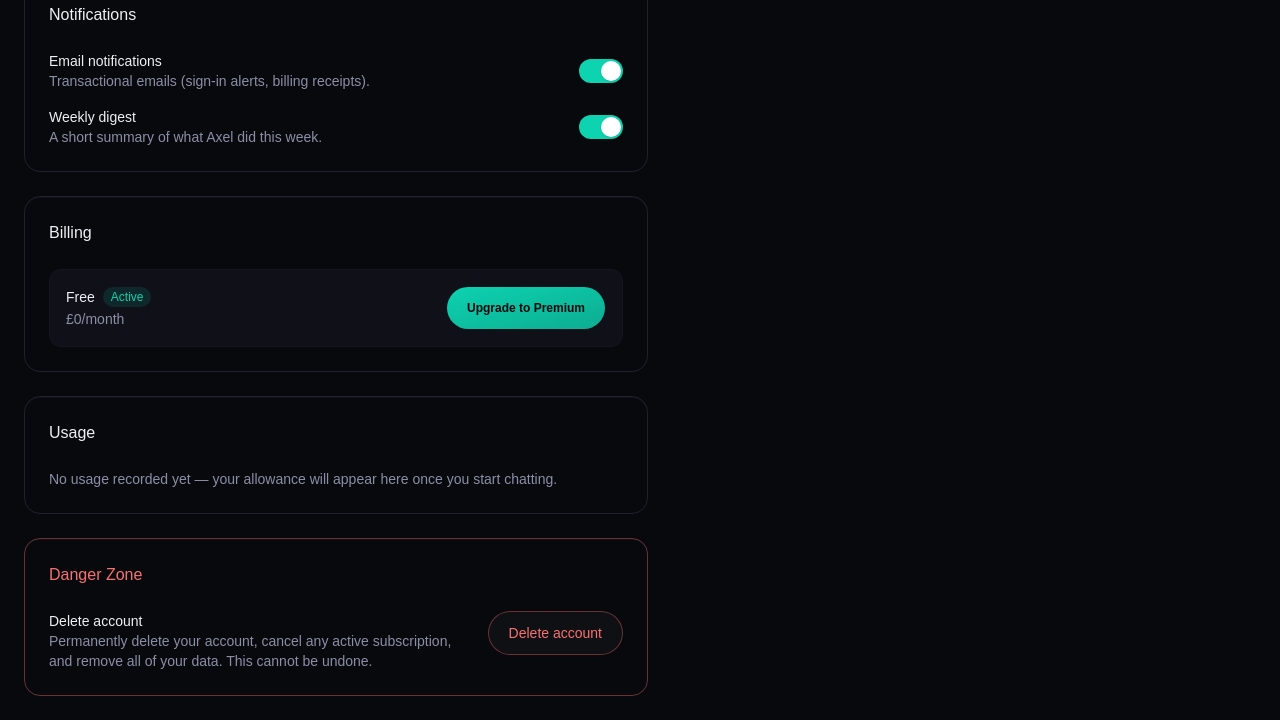
Test: Settings › danger zone › opens a typed-confirmation modal on click
(page scrolled)
Click the button "Delete account" at (555, 633), box [488, 611, 623, 655]
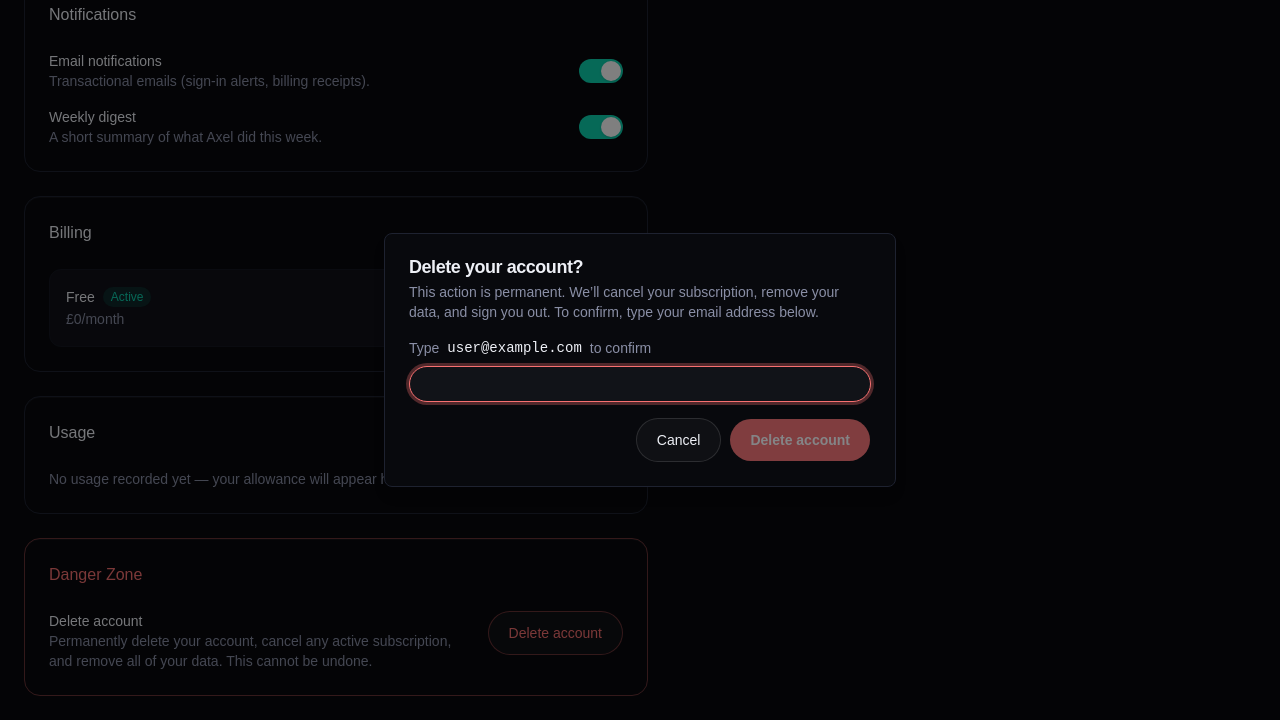
Result: the text "type your email address" is shown at [409, 284, 839, 320]
Result: the button "Delete account" is disabled at [729, 418, 871, 462]
